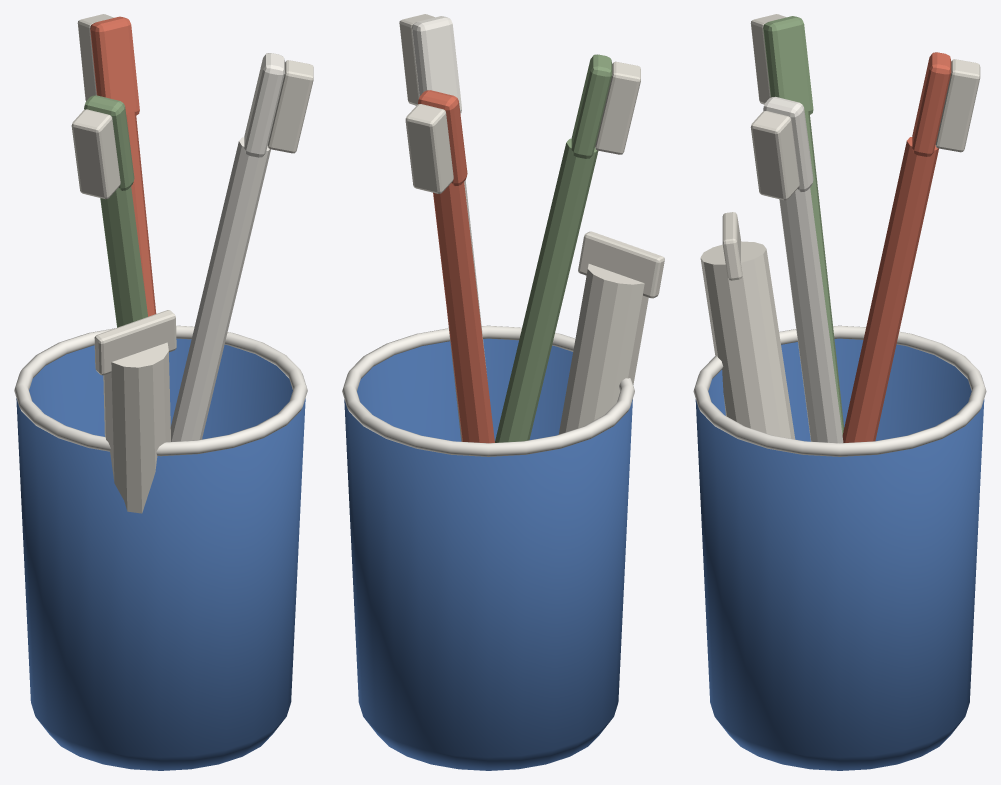
The model's file is hh_cat_toothbrush_set.glb.
3 views of the same model, side by side, from view 1: azimuth 30°, elevation 25°; view 2: azimuth 150°, elevation 25°; view 3: azimuth 270°, elevation 25° (orthographic).
Parts seen in each view (by area): view 1: cup, brush, tube, cup_rim, brush.001, brush_head.002, bristles.001, tube.001, bristles, brush_head, brush.002, brush_head.001 (+1 smaller); view 2: cup, brush.001, tube, brush.002, cup_rim, bristles.002, brush_head, tube.001, bristles.001, brush_head.001, brush_head.002, bristles; view 3: cup, tube, brush.002, brush, cup_rim, brush_head.001, bristles, bristles.002, brush_head.002, brush.001, brush_head, bristles.001 (+1 smaller).
Part boxes in pixels (x1,y1,x2,y2): cup: (16,338,305,770); brush: (170,137,270,441); tube: (103,342,170,513); cup_rim: (14,325,307,456); brush.001: (100,186,147,327); brush_head.002: (90,16,139,115); bristles.001: (71,109,120,199); tube.001: (94,310,176,375); bristles: (267,60,313,153); brush_head: (244,53,284,157); brush.002: (126,111,156,316); brush_head.001: (84,95,134,190); cup: (344,338,632,770); brush.001: (495,138,598,442); tube: (558,264,648,434); brush.002: (433,182,494,443); cup_rim: (342,325,634,456); bristles.002: (405,104,453,193); brush_head: (412,16,461,113); tube.001: (578,231,664,298); bristles.001: (595,61,640,154); brush_head.001: (571,54,612,158); brush_head.002: (418,90,467,185); bristles: (399,14,434,105); cup: (695,338,984,770); tube: (700,241,795,439); brush.002: (842,137,938,442); brush: (779,188,843,443); cup_rim: (693,325,986,456); brush_head.001: (763,16,813,114); bristles: (750,111,799,200); bristles.002: (935,59,980,152); brush_head.002: (912,52,951,156); brush.001: (804,111,844,434); brush_head: (763,96,813,191); bristles.001: (750,14,786,104).
Bounding box in the file's own units: 0.08 × 0.2 × 0.08.
